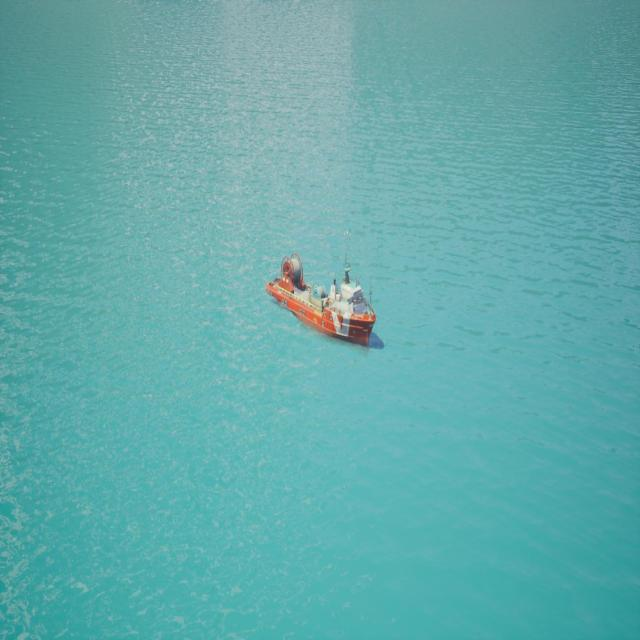tug boat: (266, 267, 382, 351)
